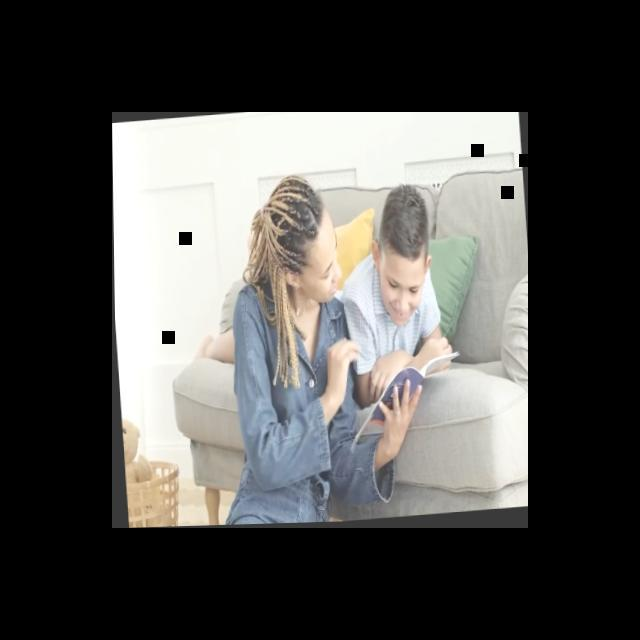female: (187, 159, 344, 325)
male: (360, 186, 435, 331)
